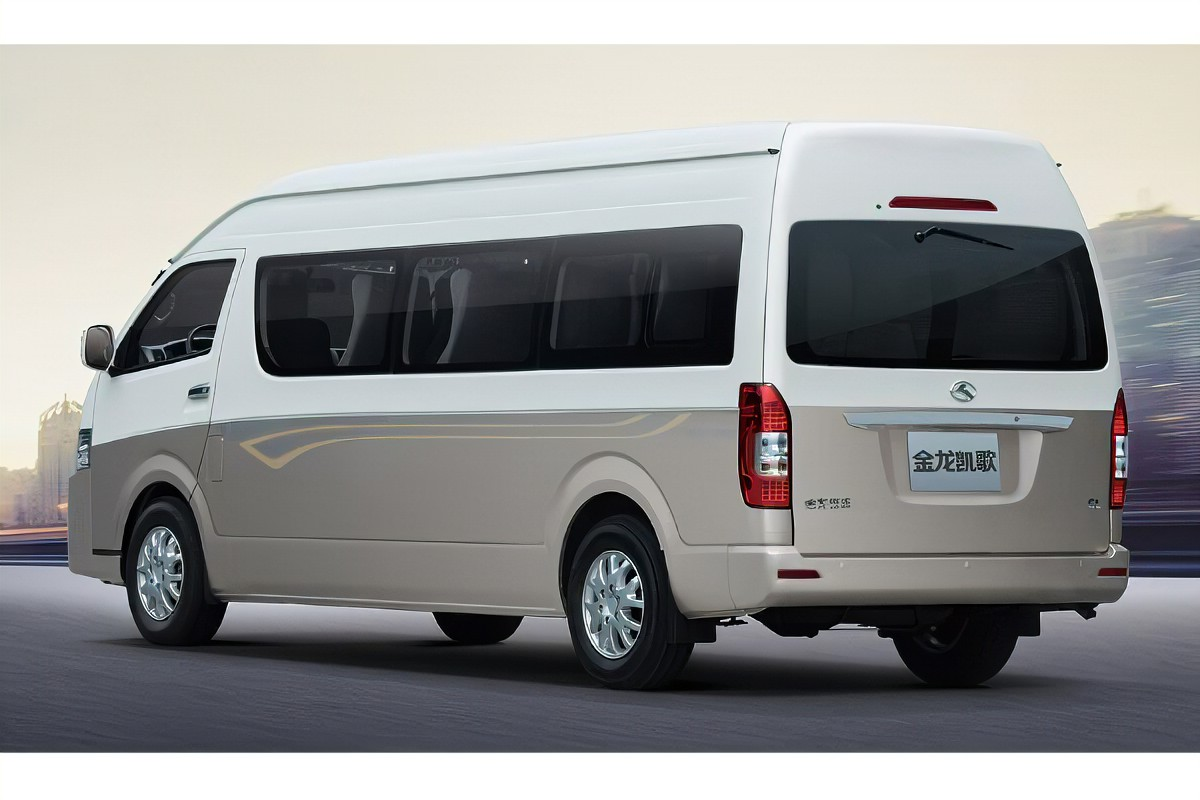midcar: (70, 92, 1124, 692)
